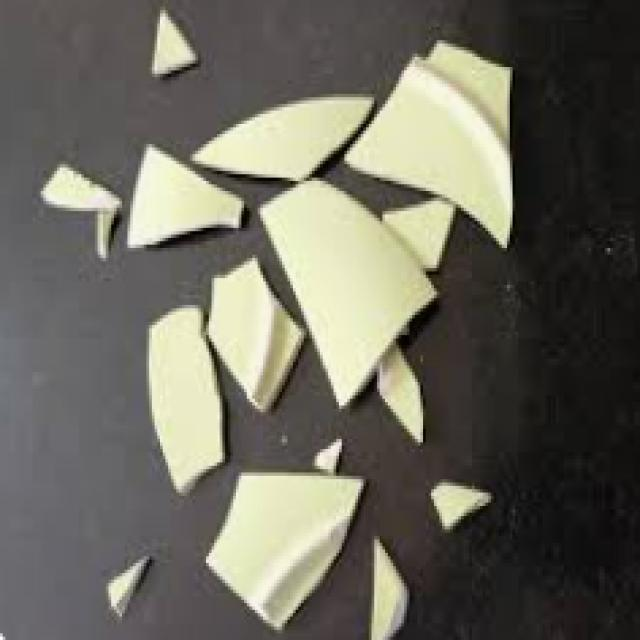PecahanKaca: (35, 16, 521, 636)
